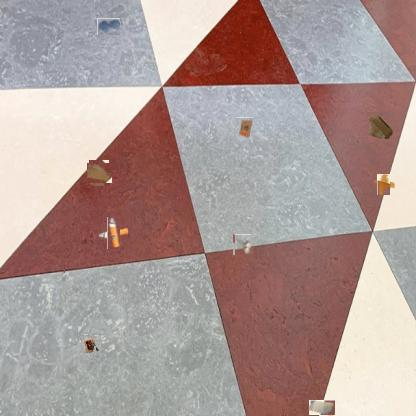dirty: (366, 113, 394, 142), (88, 162, 110, 185), (103, 222, 125, 245), (235, 117, 254, 140), (82, 333, 102, 353), (233, 234, 252, 255), (309, 400, 335, 415)
liquid: (97, 18, 120, 35), (375, 176, 393, 193)
